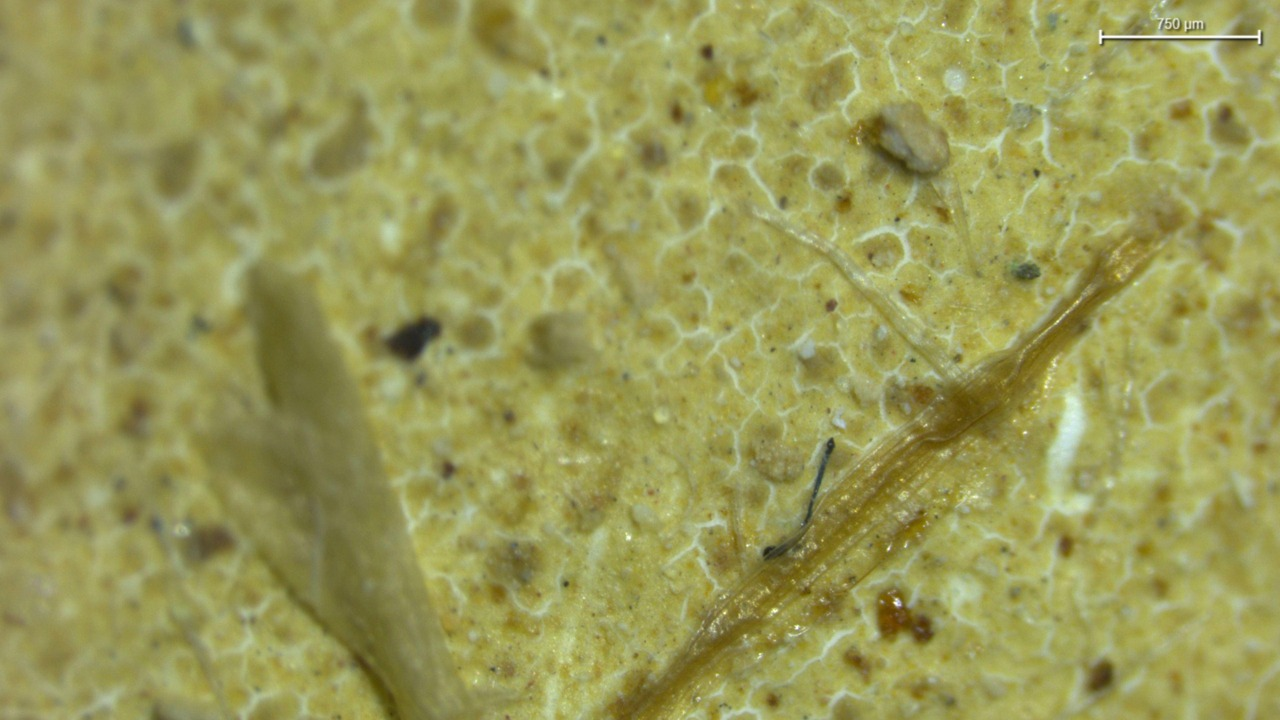microplastic_fragment: (878, 102, 950, 173)
